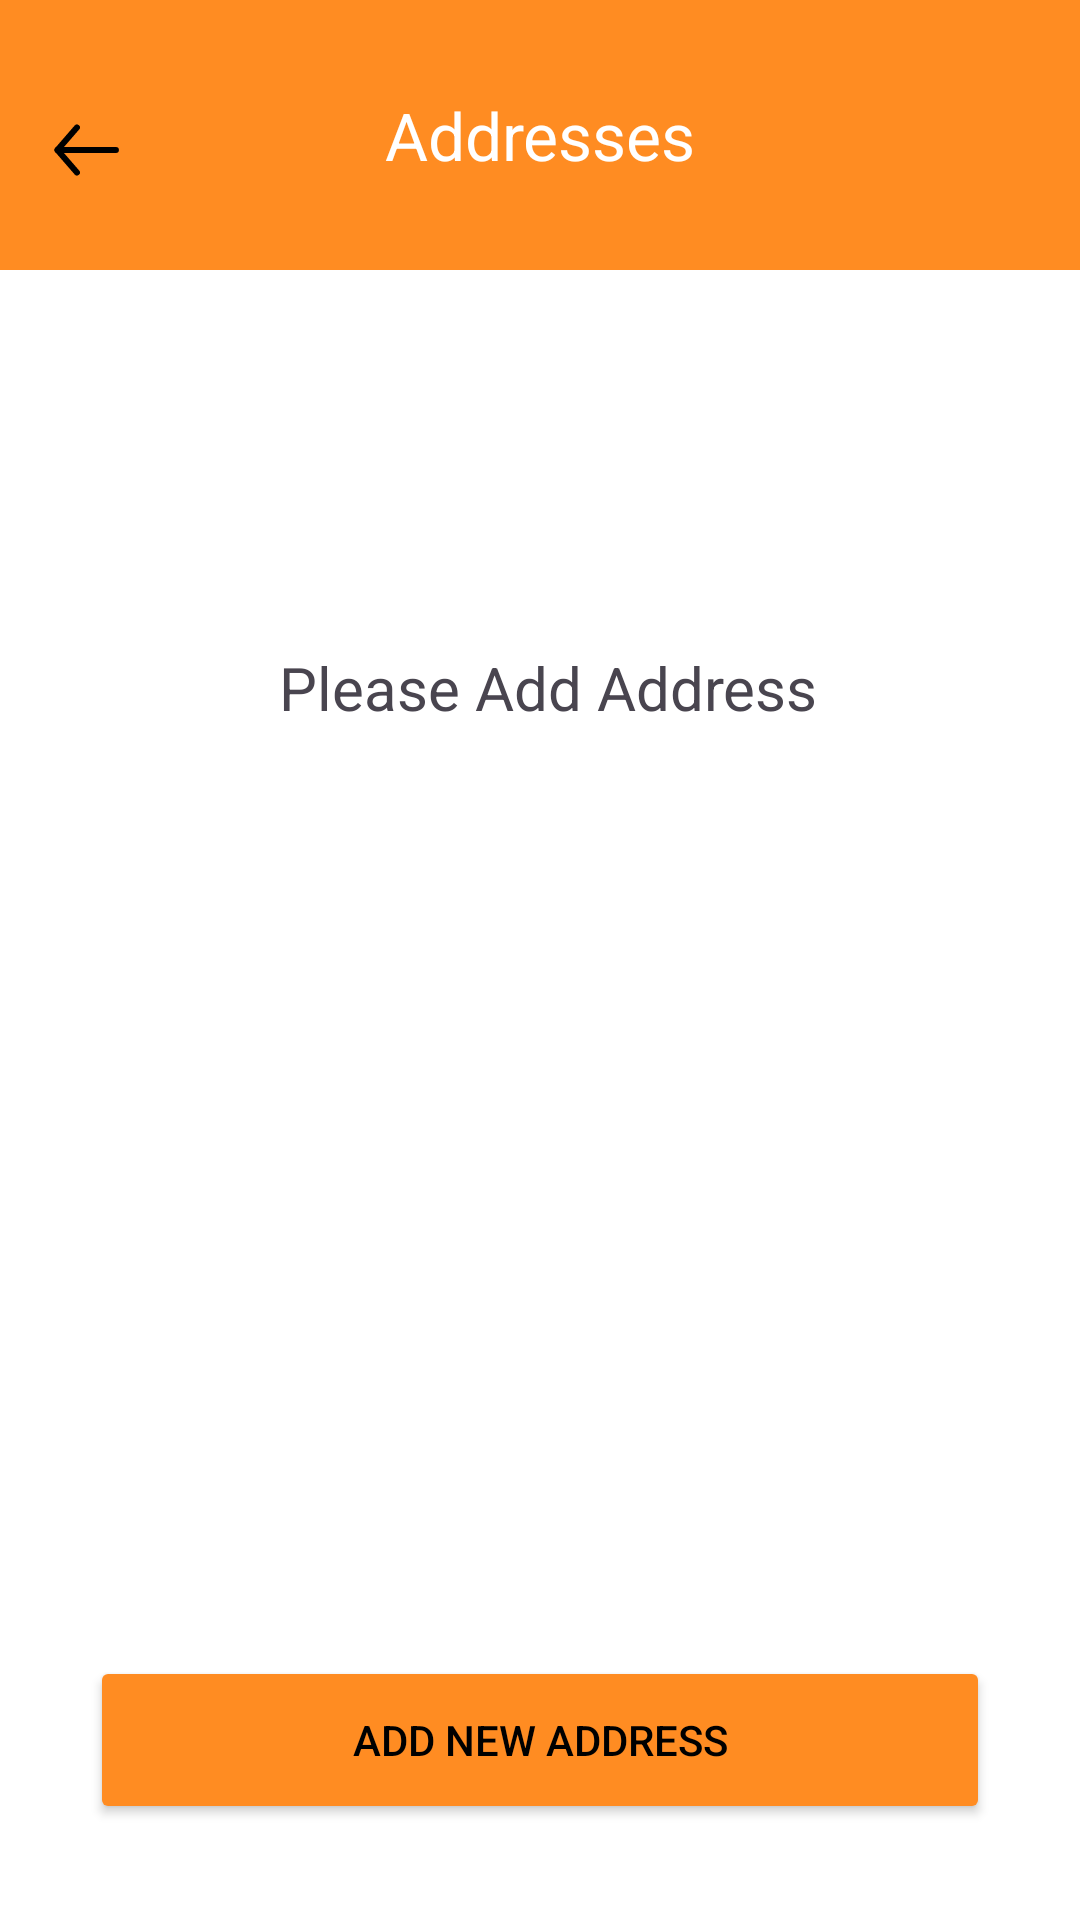

Point at icon controls on the screen. Image size 1080 x 1920, points as (x=x, y=y).
arrow left: (x=86, y=150)
